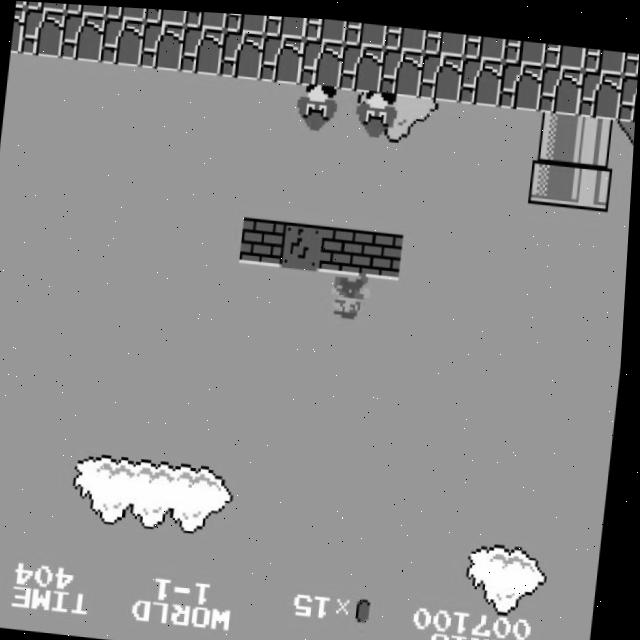1- brick_block: (361, 226, 406, 276), (321, 222, 366, 272), (242, 214, 287, 264)
11- little_mario: (330, 267, 377, 319)
13- mystery_block: (282, 218, 327, 268)
14- pipe: (574, 109, 619, 159), (534, 105, 579, 155)
15- pipe_head: (569, 154, 615, 204), (530, 151, 575, 201)
17- undestructible_block: (60, 12, 106, 62), (579, 63, 624, 113), (539, 59, 584, 109), (499, 55, 544, 105), (459, 51, 504, 101), (419, 47, 464, 97), (380, 43, 425, 93), (340, 39, 385, 89), (300, 36, 345, 86), (260, 32, 305, 82), (220, 27, 265, 77), (180, 24, 225, 74), (140, 20, 185, 70), (100, 16, 145, 66), (21, 8, 66, 58), (503, 33, 547, 60), (463, 29, 507, 56), (583, 41, 626, 68), (543, 37, 586, 64), (424, 25, 467, 52), (384, 21, 427, 48), (344, 17, 387, 44), (304, 14, 347, 40), (264, 12, 307, 36), (619, 67, 638, 116), (224, 10, 267, 31), (184, 9, 227, 28), (144, 7, 187, 24), (12, 7, 27, 55), (104, 5, 147, 20), (64, 3, 107, 16), (25, 1, 67, 12), (623, 44, 639, 70), (16, 1, 28, 8)
8- goomba: (295, 78, 343, 132), (355, 84, 403, 137)
